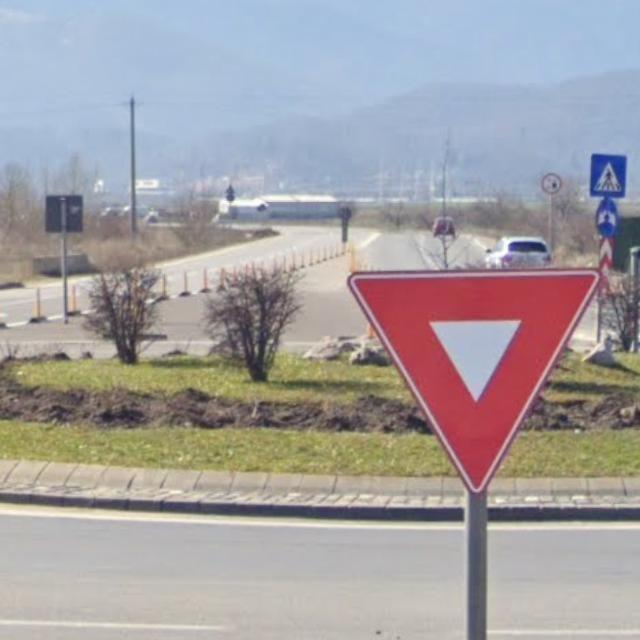info_crosswalk: (590, 155, 628, 196)
prio_give_way: (344, 269, 596, 492)
